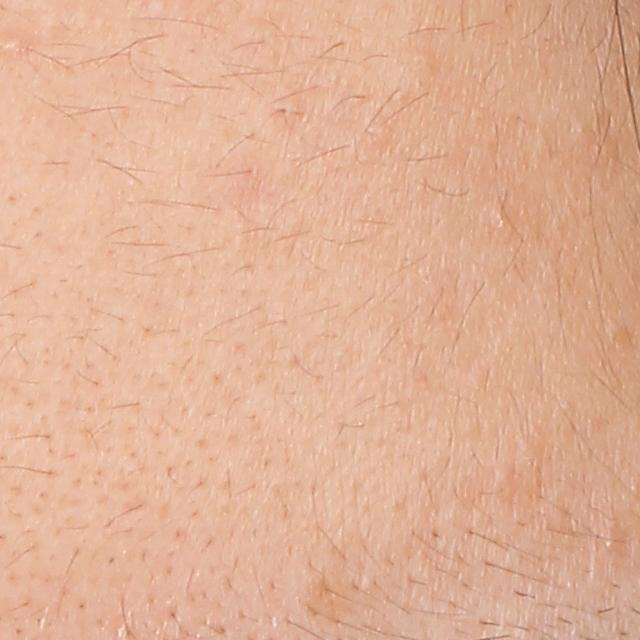comedo: (599, 318, 622, 349), (600, 531, 619, 551)
